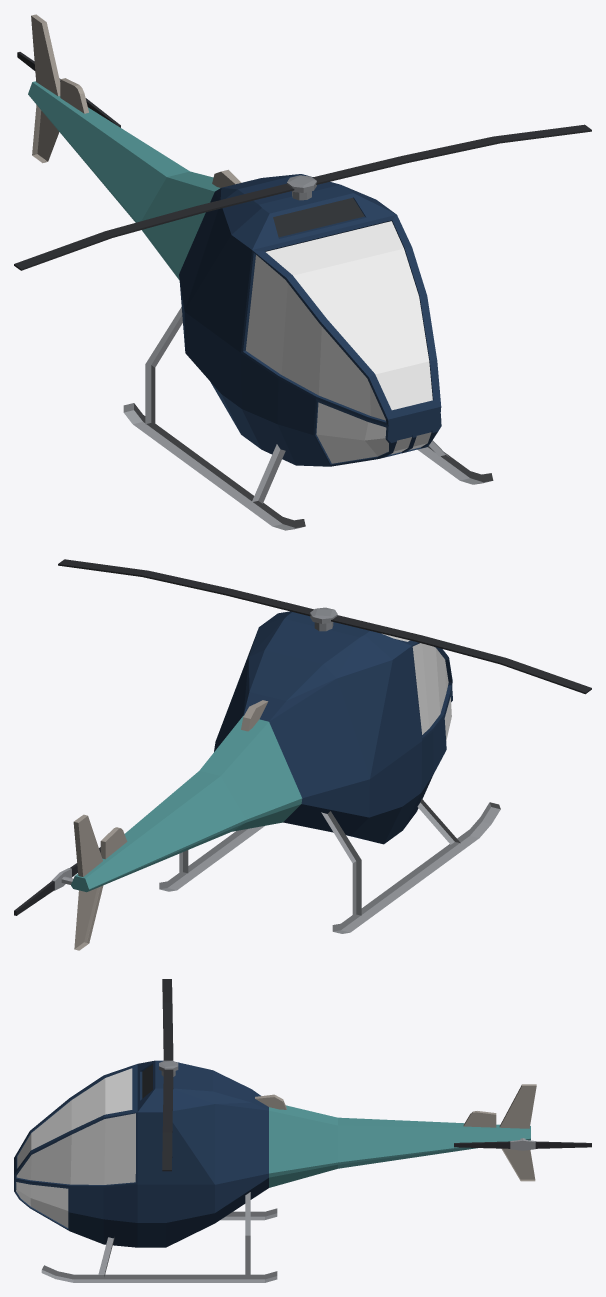
The model's file is SM_helicopter_01.gltf.
3 renders of one model, top to bottom at view 1: azimuth 30°, elevation 25°; view 2: azimuth 150°, elevation 25°; view 3: azimuth 270°, elevation 25°, orthographic. The views are drawn at different scales.
Visible parts, largest first — view 1: SM_helicopter_01, vane_01; view 2: SM_helicopter_01, vane_01, vane_02; view 3: SM_helicopter_01, vane_01, vane_02.
Boxes of the visible parts, x1=… form: SM_helicopter_01: x1=28, y1=14, x2=493, y2=530; vane_01: x1=14, y1=124, x2=591, y2=270; SM_helicopter_01: x1=71, y1=611, x2=500, y2=950; vane_01: x1=58, y1=559, x2=591, y2=694; vane_02: x1=14, y1=847, x2=100, y2=915; SM_helicopter_01: x1=14, y1=1060, x2=536, y2=1282; vane_01: x1=159, y1=979, x2=178, y2=1171; vane_02: x1=454, y1=1138, x2=591, y2=1150.
Bounding box in the file's own units: 2.92 × 1.32 × 3.74.
